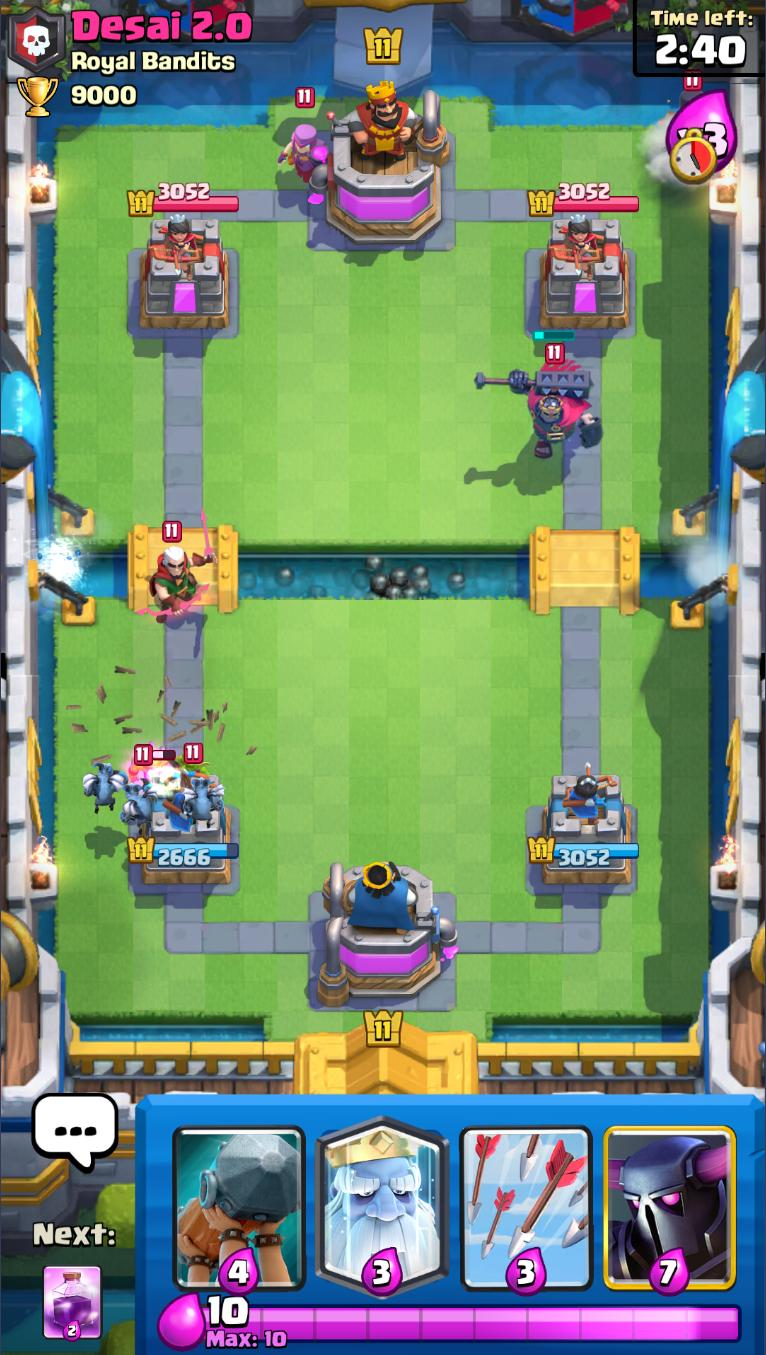ArrowDeck: (455, 1096, 598, 1297)
BattleRamDeck: (167, 1095, 311, 1295)
Elixir: (201, 1296, 743, 1350)
EnemyTower: (138, 215, 232, 331), (539, 215, 632, 331)
Goblin: (128, 745, 178, 781), (175, 742, 213, 778)
KingTower: (310, 79, 451, 248)
MagicArcher: (133, 507, 219, 623)
MotherWitch: (278, 88, 327, 186)
MyKingTower: (314, 857, 459, 1008)
MyMinion: (173, 780, 222, 829), (117, 777, 162, 830), (84, 766, 128, 818)
MyPrincessTower: (126, 773, 242, 889), (528, 770, 641, 889)
MyPrincessTowerHP: (125, 836, 241, 870), (527, 835, 641, 868)
PekkaDeck: (597, 1097, 743, 1297)
PrincessTower: (149, 215, 203, 277), (551, 215, 604, 273)
RageNext: (42, 1262, 102, 1342)
RoyaleGhostDeck: (310, 1095, 457, 1296)
SkeletonKing: (473, 328, 604, 460)
TowerPrincessHP: (127, 182, 240, 217), (528, 182, 641, 216)
